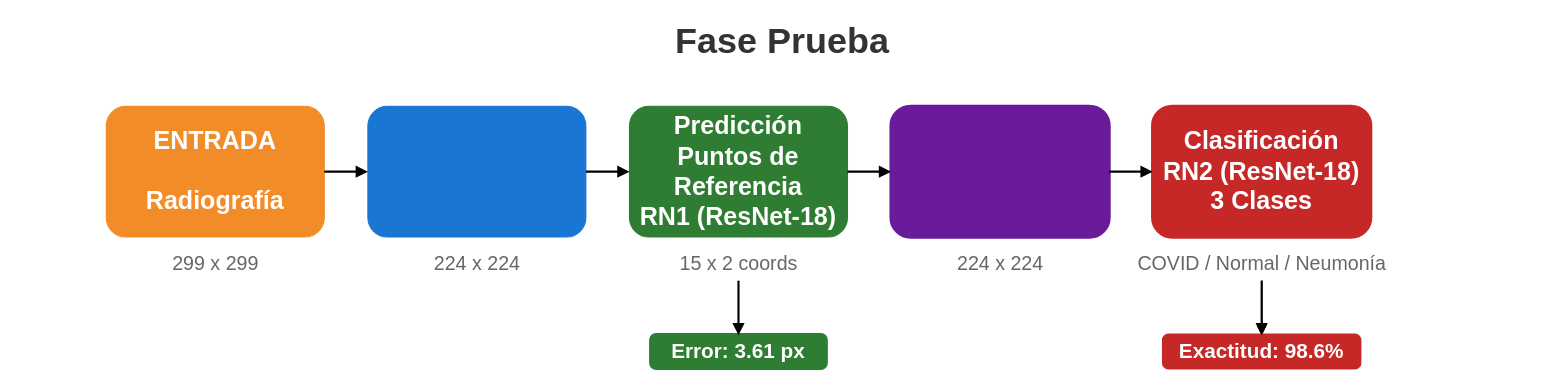
Image size: 1563x388. Some labels were removed from this diagram. The shapes that lost their labels are listed below. From the top down, each one's box as (x1, y1, x2, y2) in pixels, then its label:
(367, 105, 586, 237): Preprocesamiento Redimensionar CLAHE Normalización
(889, 104, 1110, 238): Normalización Geométrica por deformación afín por partes
